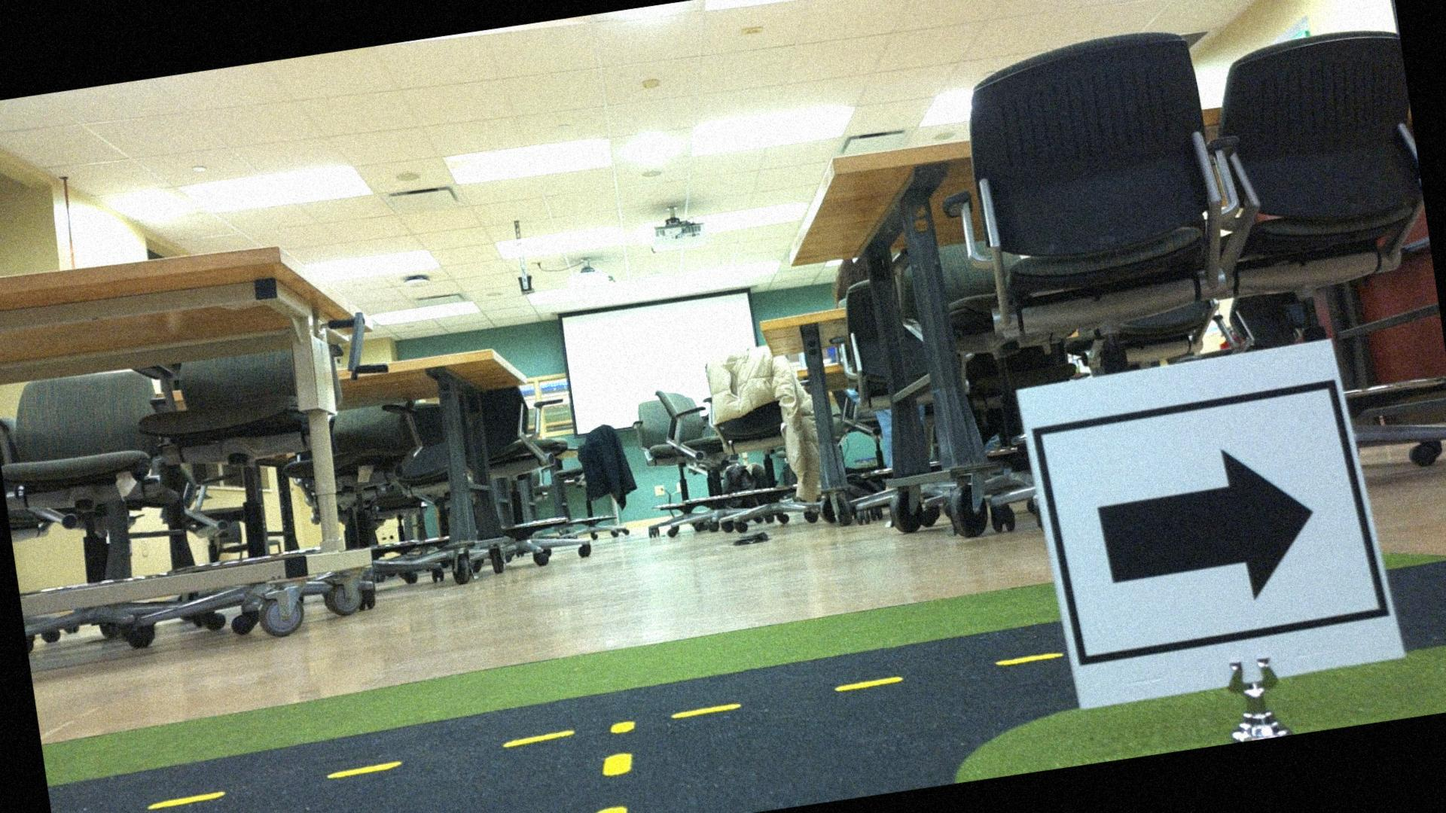turnleft: (1022, 343, 1383, 705)
yellowline: (144, 650, 1053, 808), (575, 749, 645, 812)
